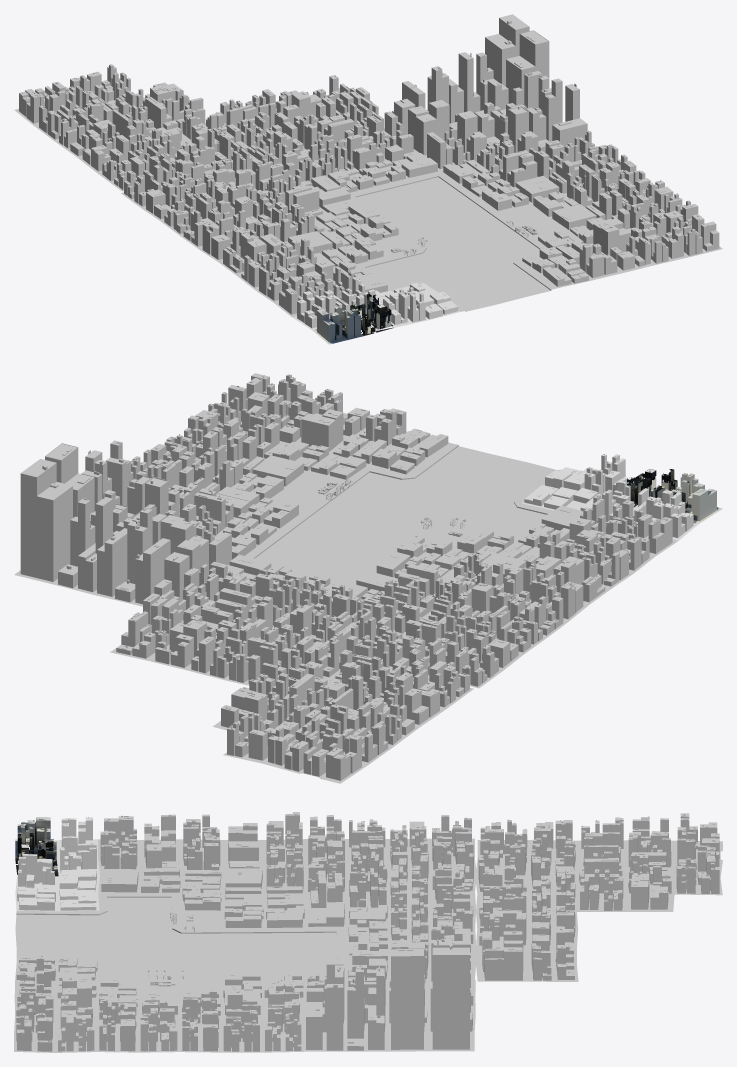
Rendered from ciudad_22.DAE.
The picture shows the model from 3 angles, top to bottom: view 1: azimuth 30°, elevation 25°; view 2: azimuth 150°, elevation 25°; view 3: azimuth 270°, elevation 25°; orthographic projection. The views are drawn at different scales.
Parts seen in each view (by area): view 1: Object07, Object05, Object02, Object105, Object106, Object104, Object06, edificios_camara06, Object04, Object, Object55, Object123 (+99 smaller); view 2: Object07, Object105, Object05, Object103, Object104, Object102, Object08, Object112, Object108, Object132, Object20, Object109 (+95 smaller); view 3: Object07, Object05, Object105, Object106, Object02, Object107, Object110, Object60, Object64, Object124, Object55, Object132 (+109 smaller).
Boxes of the visible parts, x1=… form: Object07: x1=356, y1=177, x2=550, y2=311; Object05: x1=350, y1=171, x2=565, y2=311; Object02: x1=541, y1=78, x2=587, y2=146; Object105: x1=485, y1=14, x2=529, y2=86; Object106: x1=506, y1=34, x2=549, y2=104; Object104: x1=457, y1=52, x2=496, y2=113; Object06: x1=408, y1=100, x2=449, y2=156; edificios_camara06: x1=490, y1=104, x2=546, y2=152; Object04: x1=457, y1=110, x2=499, y2=161; Object: x1=312, y1=306, x2=363, y2=344; Object55: x1=674, y1=214, x2=722, y2=257; Object123: x1=78, y1=131, x2=129, y2=173; Object07: x1=255, y1=446, x2=557, y2=584; Object105: x1=14, y1=459, x2=72, y2=584; Object05: x1=246, y1=443, x2=560, y2=586; Object103: x1=93, y1=507, x2=152, y2=603; Object104: x1=55, y1=494, x2=112, y2=594; Object102: x1=131, y1=538, x2=189, y2=606; Object08: x1=300, y1=727, x2=367, y2=783; Object112: x1=187, y1=627, x2=247, y2=680; Object108: x1=110, y1=611, x2=171, y2=660; Object132: x1=223, y1=712, x2=278, y2=763; Object20: x1=579, y1=534, x2=633, y2=588; Object109: x1=149, y1=619, x2=206, y2=670; Object07: x1=15, y1=897, x2=337, y2=977; Object05: x1=16, y1=893, x2=347, y2=998; Object105: x1=428, y1=945, x2=474, y2=1051; Object106: x1=386, y1=949, x2=428, y2=1051; Object02: x1=304, y1=960, x2=345, y2=1051; Object107: x1=345, y1=966, x2=386, y2=1051; Object110: x1=476, y1=938, x2=530, y2=981; Object60: x1=138, y1=1007, x2=179, y2=1052; Object64: x1=221, y1=1009, x2=262, y2=1052; Object124: x1=577, y1=869, x2=626, y2=911; Object55: x1=14, y1=1008, x2=55, y2=1052; Object132: x1=672, y1=855, x2=722, y2=895.
Size of the model in its own units: 14698 by 20540 by 3142.
